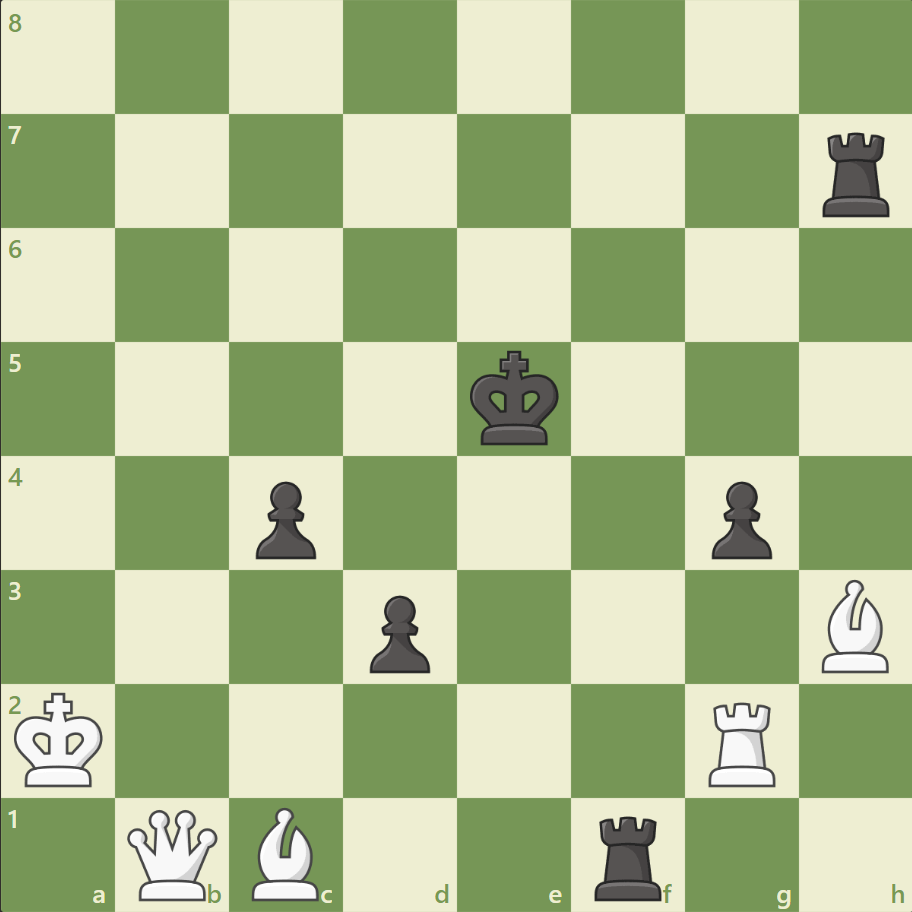B: (244, 801, 328, 904), (812, 574, 896, 676)
K: (11, 685, 111, 793)
Q: (124, 804, 223, 903)
R: (700, 693, 783, 790)
k: (465, 344, 565, 452)
p: (247, 473, 322, 564), (701, 473, 776, 564), (361, 586, 435, 677)
r: (587, 806, 670, 904), (814, 125, 897, 222)
